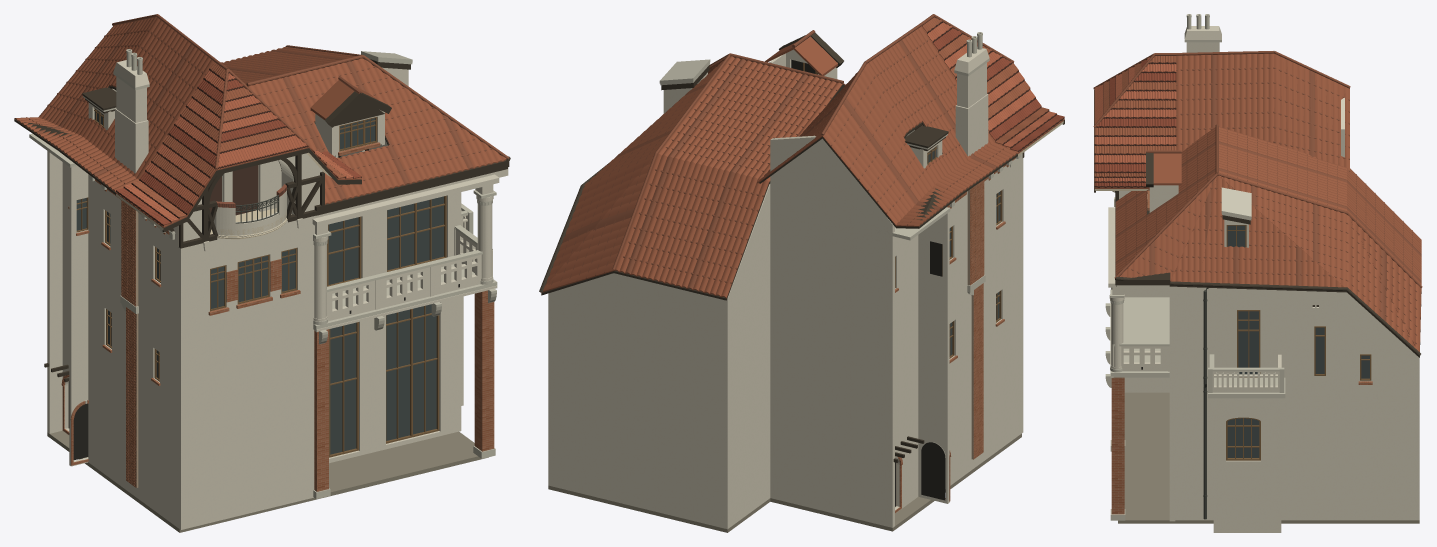
Rendered from xuhui-gaoan-77-curved-veranda-raw.glb.
3 views of the same model, side by side, from view 1: azimuth 30°, elevation 25°; view 2: azimuth 150°, elevation 25°; view 3: azimuth 270°, elevation 25° (orthographic). The views are drawn at different scales.
Visible parts, largest first — view 1: 高安路77号花园住宅折檐弧阳台; view 2: 高安路77号花园住宅折檐弧阳台; view 3: 高安路77号花园住宅折檐弧阳台.
Boxes of the visible parts, box(x1,y1,x2,y2) form: 高安路77号花园住宅折檐弧阳台: box(14, 14, 510, 532); 高安路77号花园住宅折檐弧阳台: box(539, 14, 1064, 532); 高安路77号花园住宅折檐弧阳台: box(1093, 14, 1422, 532).
Size of the model in its own units: 12.69 by 14.22 by 11.17.
18 materials, 2 textured.
